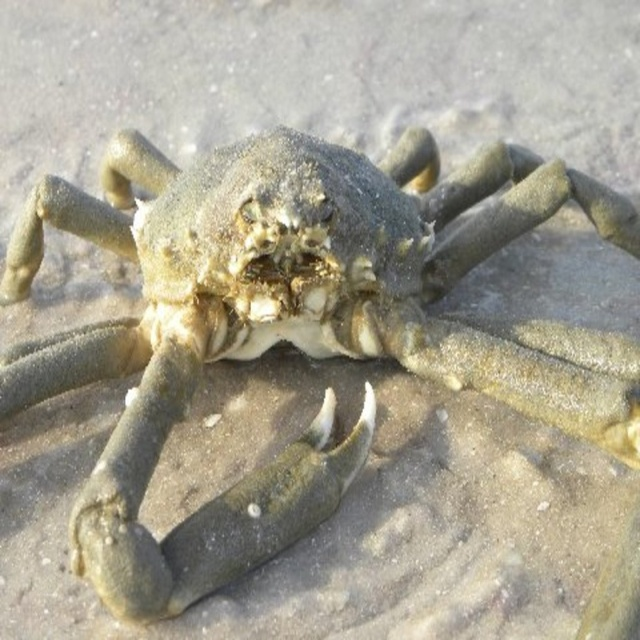Crab: (0, 124, 639, 638)
